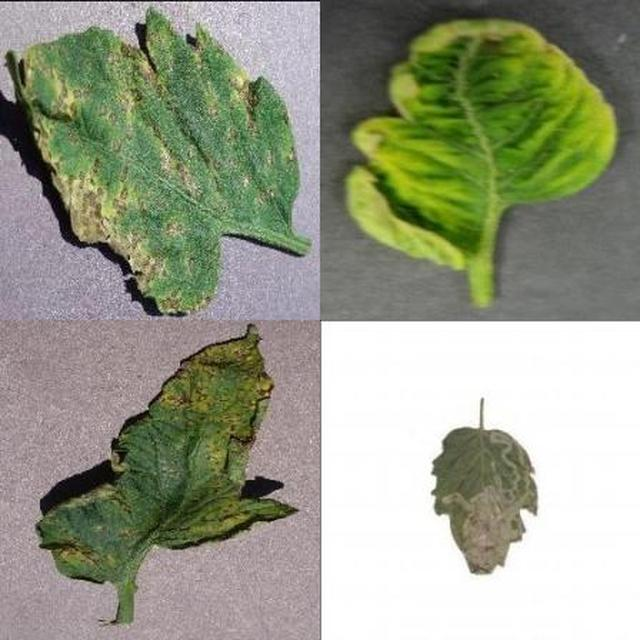Septoria Leaf: (159, 206, 640, 640)
